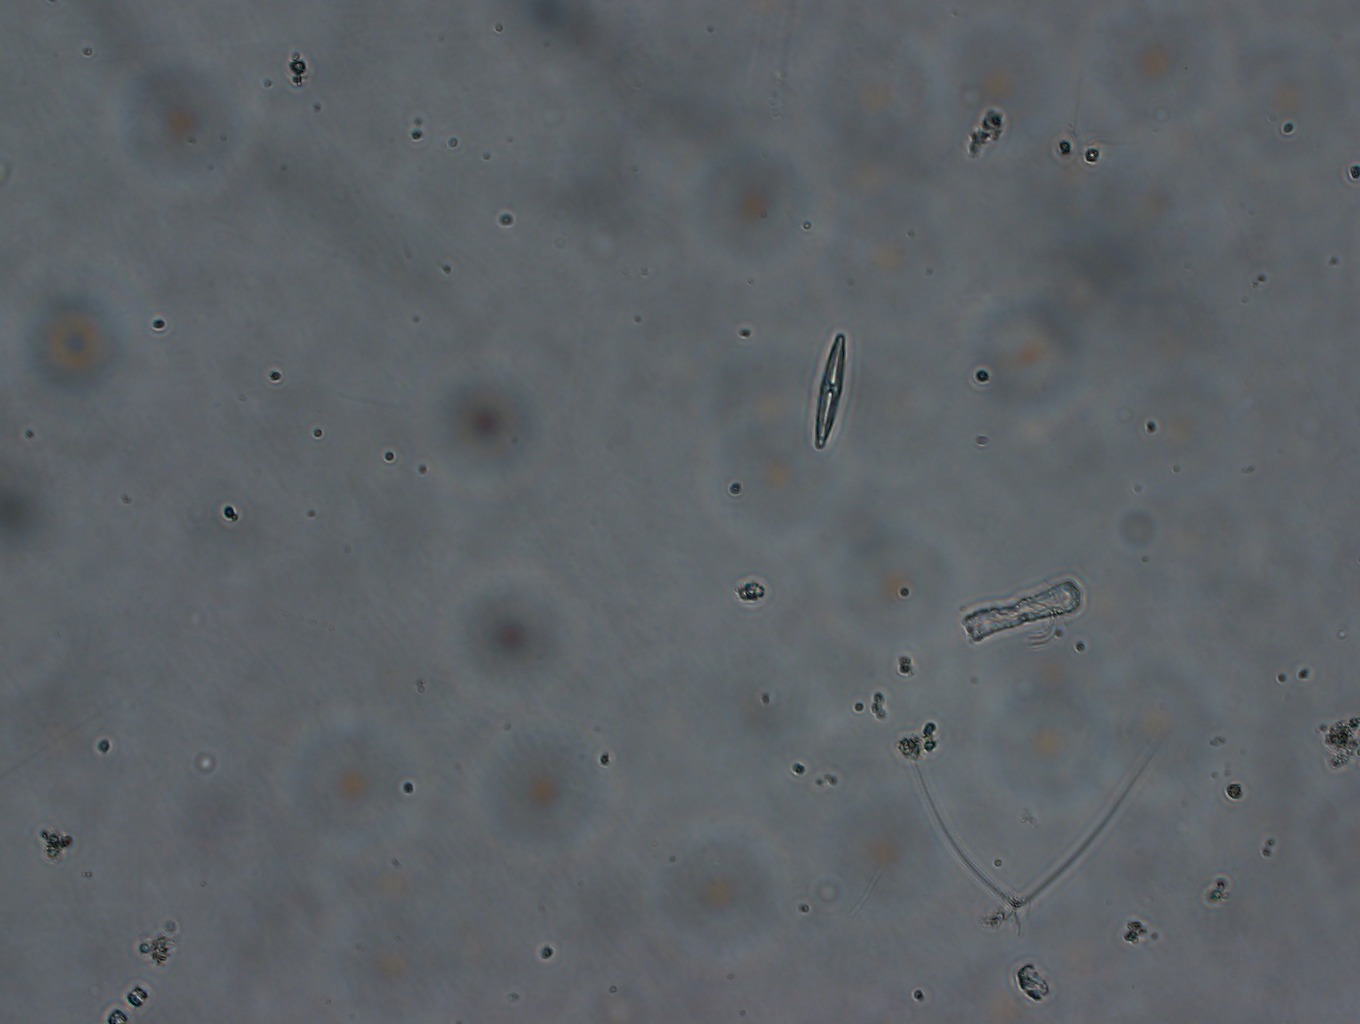chaetoceros: (893, 711, 1158, 935)
navicula: (808, 326, 856, 452)
